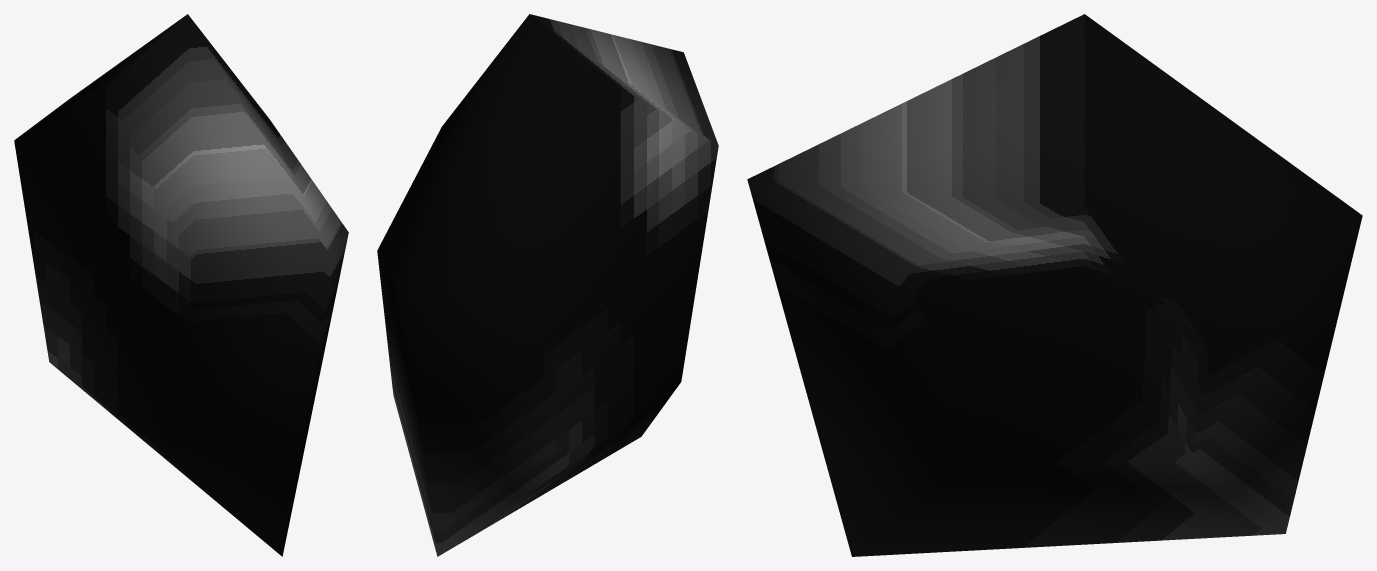
The model's file is coal.glb.
3 renders of one model, left to right at view 1: azimuth 30°, elevation 25°; view 2: azimuth 150°, elevation 25°; view 3: azimuth 270°, elevation 25°, orthographic. The views are drawn at different scales.
Parts seen in each view (by area): view 1: Circle; view 2: Circle; view 3: Circle.
Boxes of the visible parts, box(x1,y1,x2,y2) form: Circle: box(14, 14, 348, 556); Circle: box(377, 14, 718, 556); Circle: box(747, 14, 1362, 556).
Bounding box in the file's own units: 0.0592 × 0.1599 × 0.1634.
Materials: 1 (1 with a texture image).
